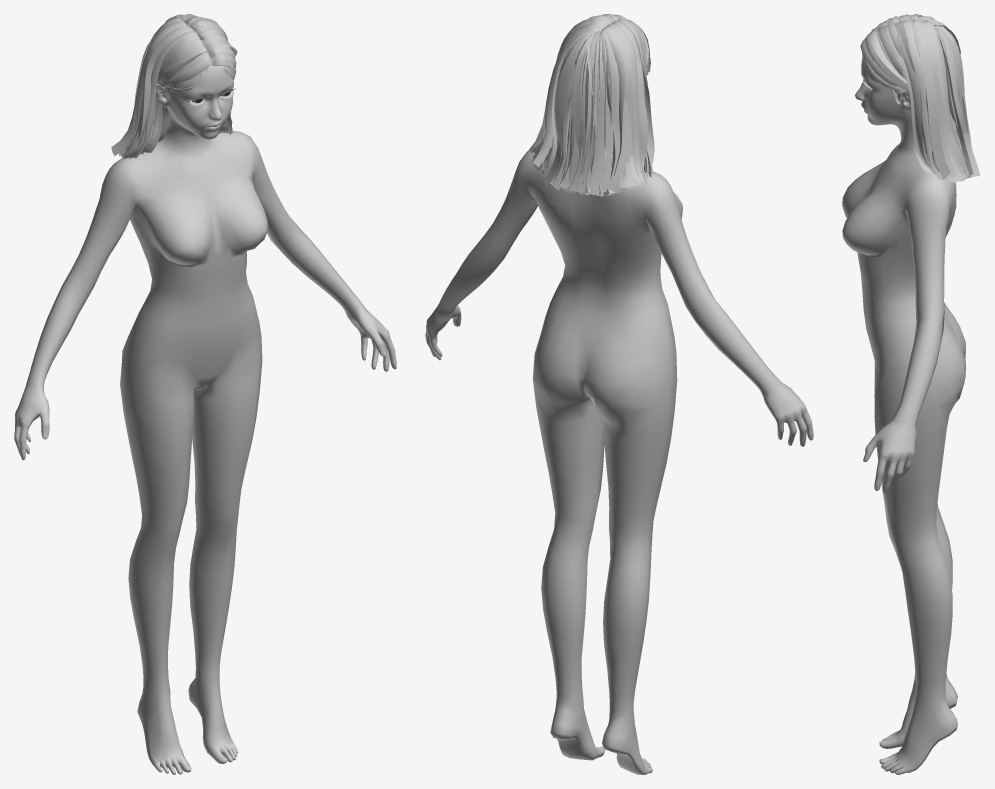
The model's file is Qianqian_nude.fbx.
The picture shows the model from 3 angles, left to right: view 1: azimuth 30°, elevation 25°; view 2: azimuth 150°, elevation 25°; view 3: azimuth 270°, elevation 25°; orthographic projection.
Visible parts, largest first — view 1: Qianqian_main, Qianqian_Hair; view 2: Qianqian_main, Qianqian_Hair; view 3: Qianqian_main, Qianqian_Hair.
Boxes of the visible parts, left/top/right/bottom form: Qianqian_main: left=14, top=65, right=396, bottom=774; Qianqian_Hair: left=111, top=14, right=237, bottom=158; Qianqian_main: left=425, top=74, right=813, bottom=774; Qianqian_Hair: left=529, top=14, right=654, bottom=196; Qianqian_main: left=842, top=59, right=965, bottom=774; Qianqian_Hair: left=860, top=14, right=980, bottom=182.
Bounding box in the file's own units: 89.59 × 169 × 28.53.
